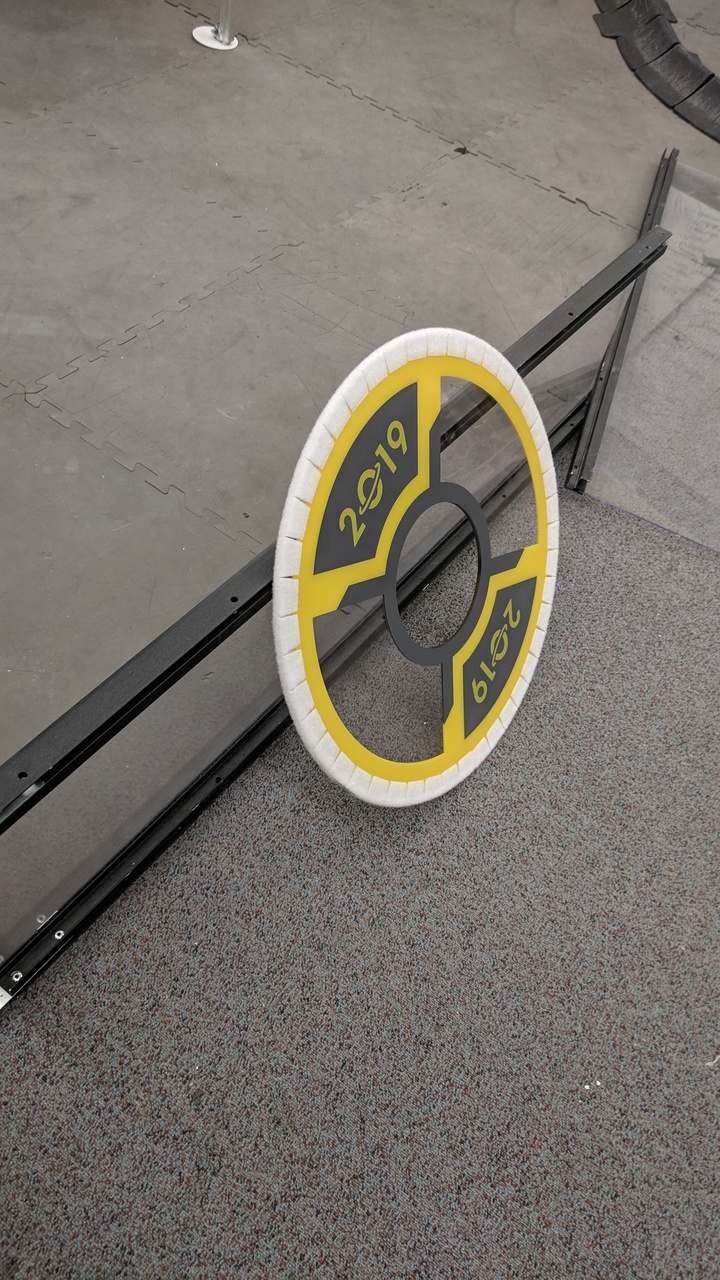hatch_panel: (261, 318, 569, 824)
